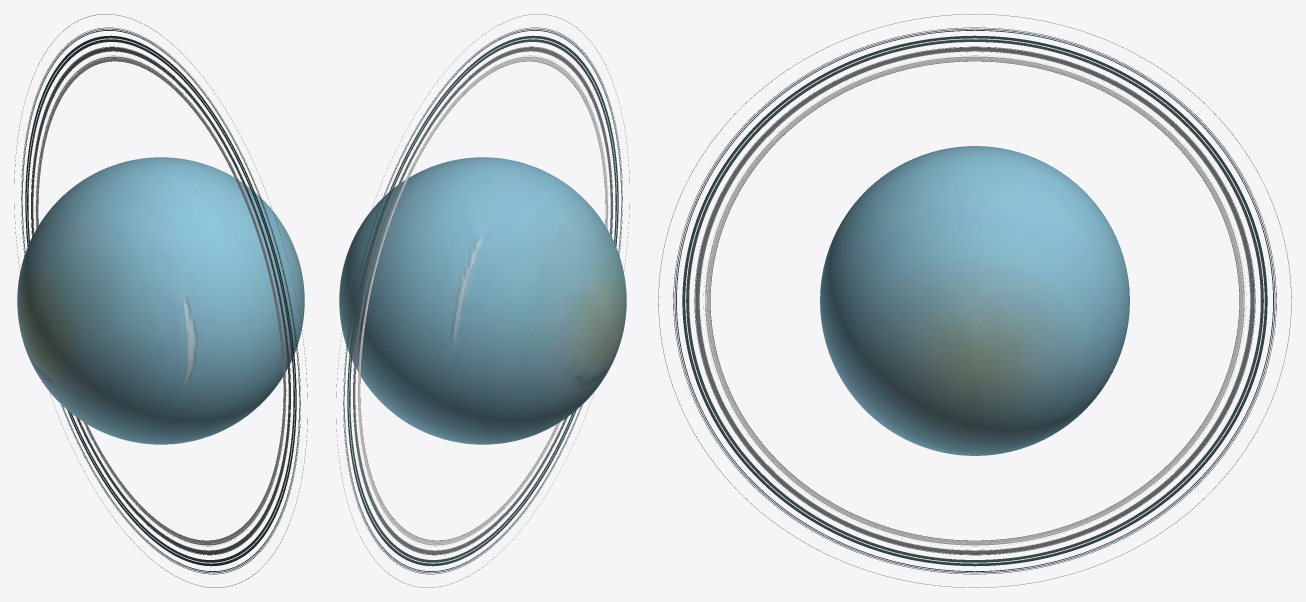
File: uranus.glb
3 views of the same model, side by side, from view 1: azimuth 30°, elevation 25°; view 2: azimuth 150°, elevation 25°; view 3: azimuth 270°, elevation 25° (orthographic). The views are drawn at different scales.
Visible parts, largest first — view 1: pSphere1.1_1, pPlane1.2_2; view 2: pSphere1.1_1, pPlane1.2_2; view 3: pSphere1.1_1, pPlane1.2_2.
Part boxes in pixels (left/top/right/bottom): pSphere1.1_1: left=17, top=157, right=304, bottom=444; pPlane1.2_2: left=14, top=14, right=307, bottom=587; pSphere1.1_1: left=339, top=157, right=626, bottom=444; pPlane1.2_2: left=336, top=14, right=629, bottom=587; pSphere1.1_1: left=820, top=146, right=1129, bottom=455; pPlane1.2_2: left=658, top=14, right=1291, bottom=587.
Bounding box in the file's own units: 0.2 × 0.4086 × 0.4086.
Materials: 2 (2 with a texture image).
